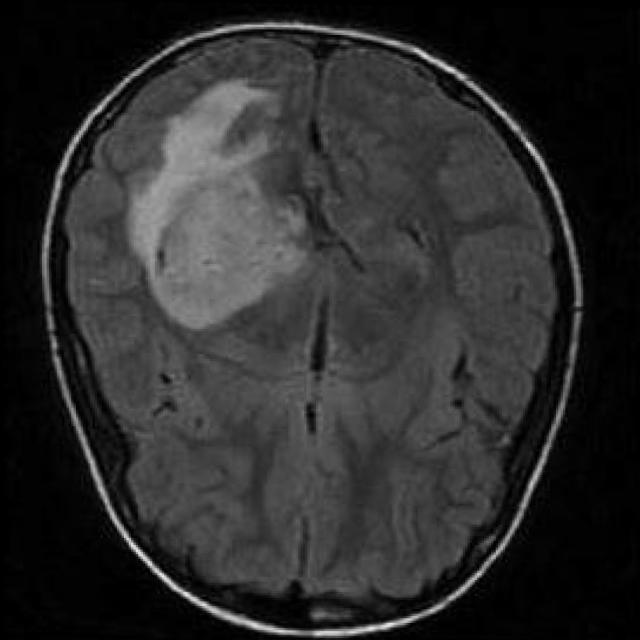Tumor: (128, 81, 305, 333)
